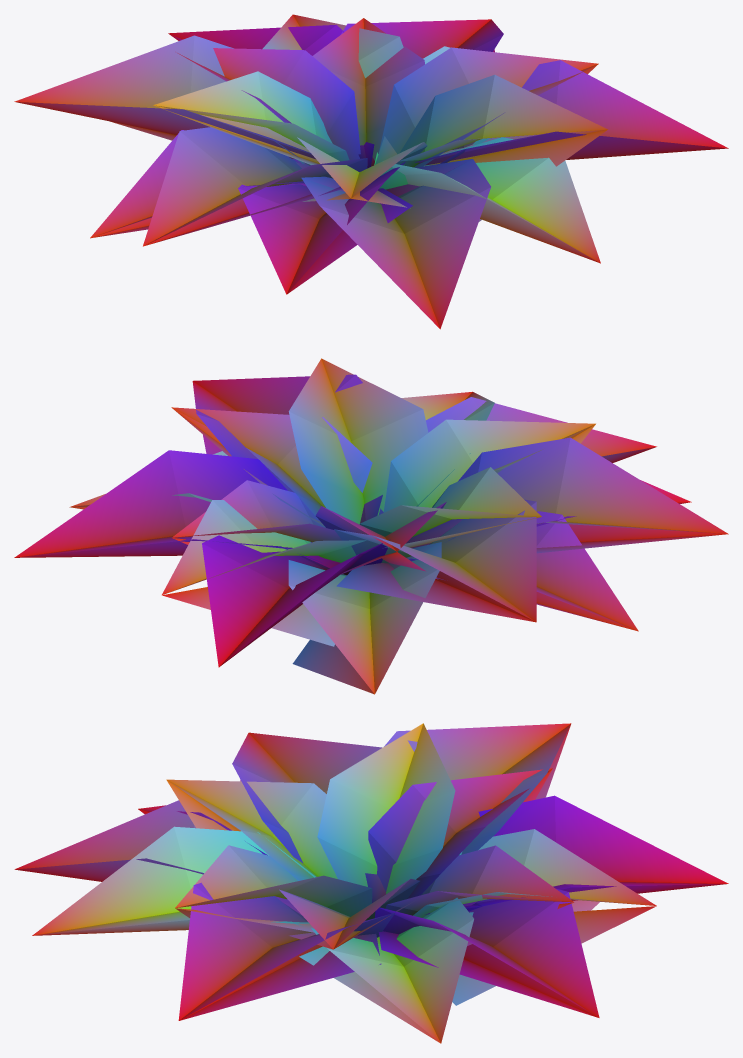
File: woodfern_low.dae
3 views of the same model, one above another, from view 1: azimuth 30°, elevation 25°; view 2: azimuth 150°, elevation 25°; view 3: azimuth 270°, elevation 25° (orthographic). The views are drawn at different scales.
Visible parts, largest first — view 1: fern_low64, fern_low8; view 2: fern_low64, fern_low8; view 3: fern_low64, fern_low8.
Part boxes in pixels (x1,y1,x2,y2): fern_low64: [14, 14, 728, 329]; fern_low8: [16, 33, 728, 293]; fern_low64: [14, 358, 727, 693]; fern_low8: [15, 408, 728, 694]; fern_low64: [14, 723, 728, 1043]; fern_low8: [15, 725, 726, 1042].
Size of the model in its own units: 1.82 by 1.98 by 0.4956.
